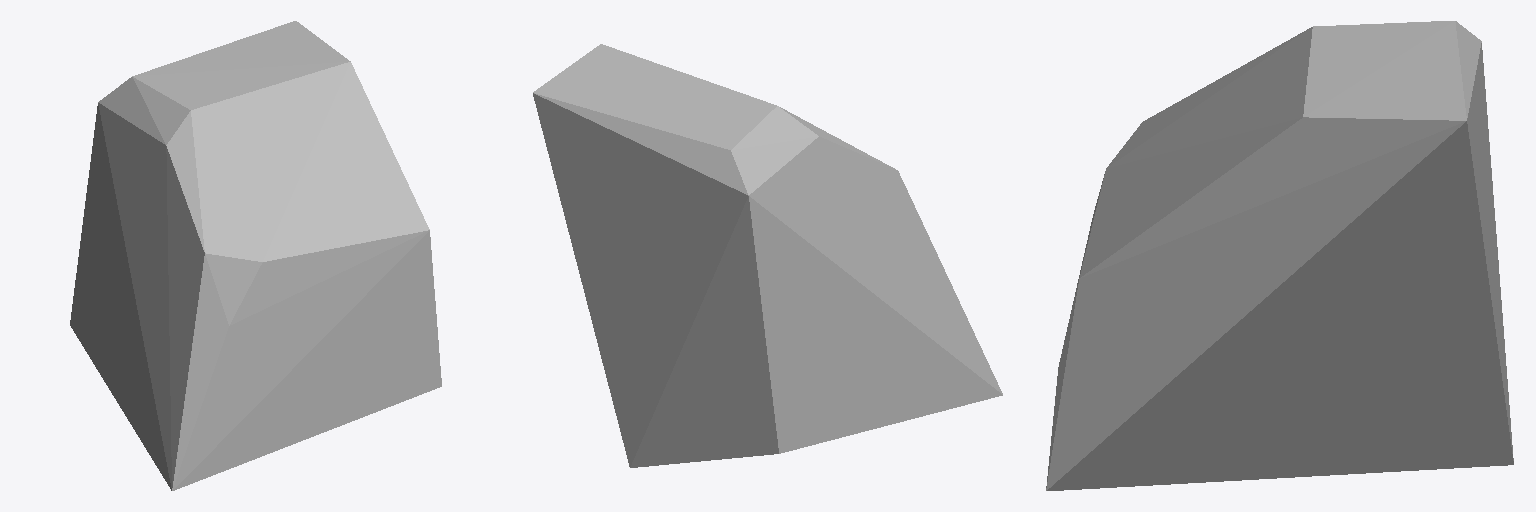
URDF robot description (root):
<?xml version='1.0' encoding='utf-8'?>
<robot name="root">
  <link name="link_001">
    <visual>
      <origin xyz="0 0 0" rpy="0 0 0" />
      <geometry>
        <mesh filename="8d3c346fc449840302f3e56b9a361cc570267d397b3766e82a9a99c206200925_scale_649.stl" scale="1.0000E+00 1.0000E+00 1.0000E+00" />
      </geometry>
      <material name="">
        <color rgba="7.50E-01 7.50E-01 7.50E-01 1" />
      </material>
    </visual>
    <collision>
      <origin xyz="0 0 0" rpy="0 0 0" />
      <geometry>
        <mesh filename="8d3c346fc449840302f3e56b9a361cc570267d397b3766e82a9a99c206200925_scale_649.stl" scale="1.0000E+00 1.0000E+00 1.0000E+00" />
      </geometry>
    </collision>
  </link>
</robot>

--- What the picture shows (computed from the rendered views, not written in the file) ---
3 views of the same robot in one strip: view 1: azimuth 30°, elevation 25°; view 2: azimuth 150°, elevation 25°; view 3: azimuth 270°, elevation 25° (orthographic).
Robot: root — 1 links, 0 joints (none); root link link_001; default pose: every joint at zero.
Links seen in each view (by area): view 1: link_001; view 2: link_001; view 3: link_001.
Boxes of the visible links, box(x1,y1,x2,y2) form: link_001: box(70, 21, 441, 490); link_001: box(533, 44, 1002, 467); link_001: box(1046, 21, 1513, 490).
Bounding box of the posed robot: 0.0843 × 0.0894 × 0.0917 m (x, y, z).
1 mesh visuals loaded from 1 distinct referenced files (1 binary STL).
